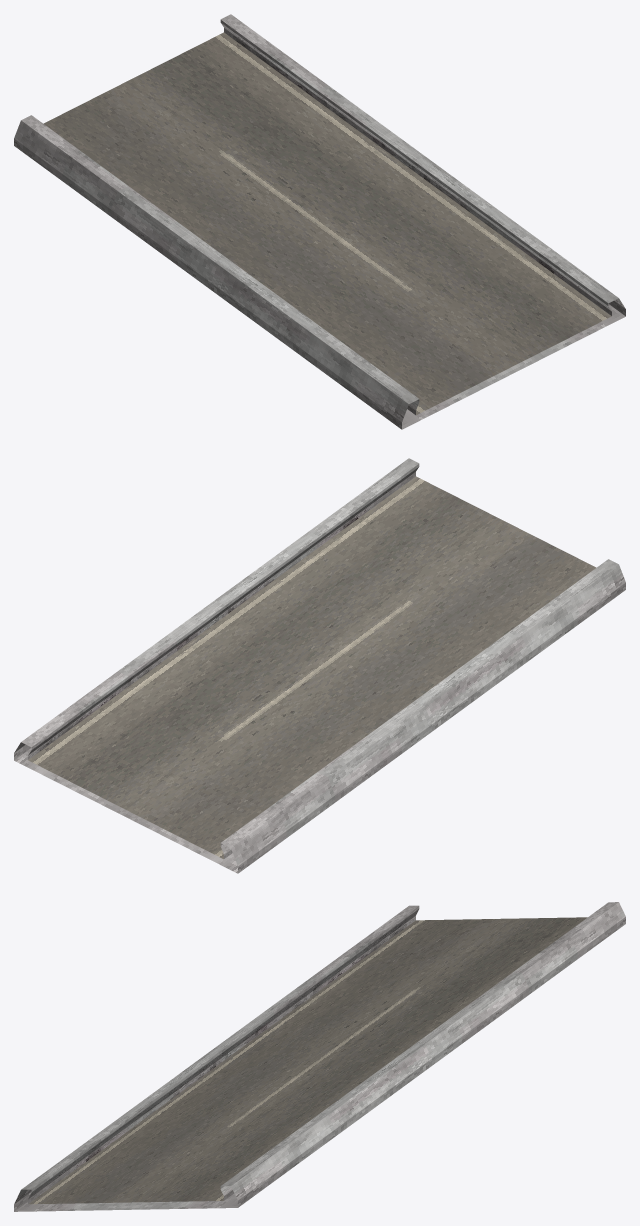
File: road-Straight-HalfBankedLeft-HalfBankedLeft-Even-Center-Size3.glb
3 renders of one model, top to bottom at view 1: azimuth 30°, elevation 25°; view 2: azimuth 150°, elevation 25°; view 3: azimuth 330°, elevation 25°, orthographic.
Visible parts, largest first — view 1: road-Straight-HalfBankedLeft-HalfBankedLeft-Even-Center-Size; view 2: road-Straight-HalfBankedLeft-HalfBankedLeft-Even-Center-Size; view 3: road-Straight-HalfBankedLeft-HalfBankedLeft-Even-Center-Size.
Part boxes in pixels (box(x1,y1,x2,y2)): road-Straight-HalfBankedLeft-HalfBankedLeft-Even-Center-Size: box(14, 14, 625, 429); road-Straight-HalfBankedLeft-HalfBankedLeft-Even-Center-Size: box(14, 458, 625, 873); road-Straight-HalfBankedLeft-HalfBankedLeft-Even-Center-Size: box(14, 902, 625, 1211).
Size of the model in its own units: 1 by 0.3359 by 3.
2 materials, 2 textured.
